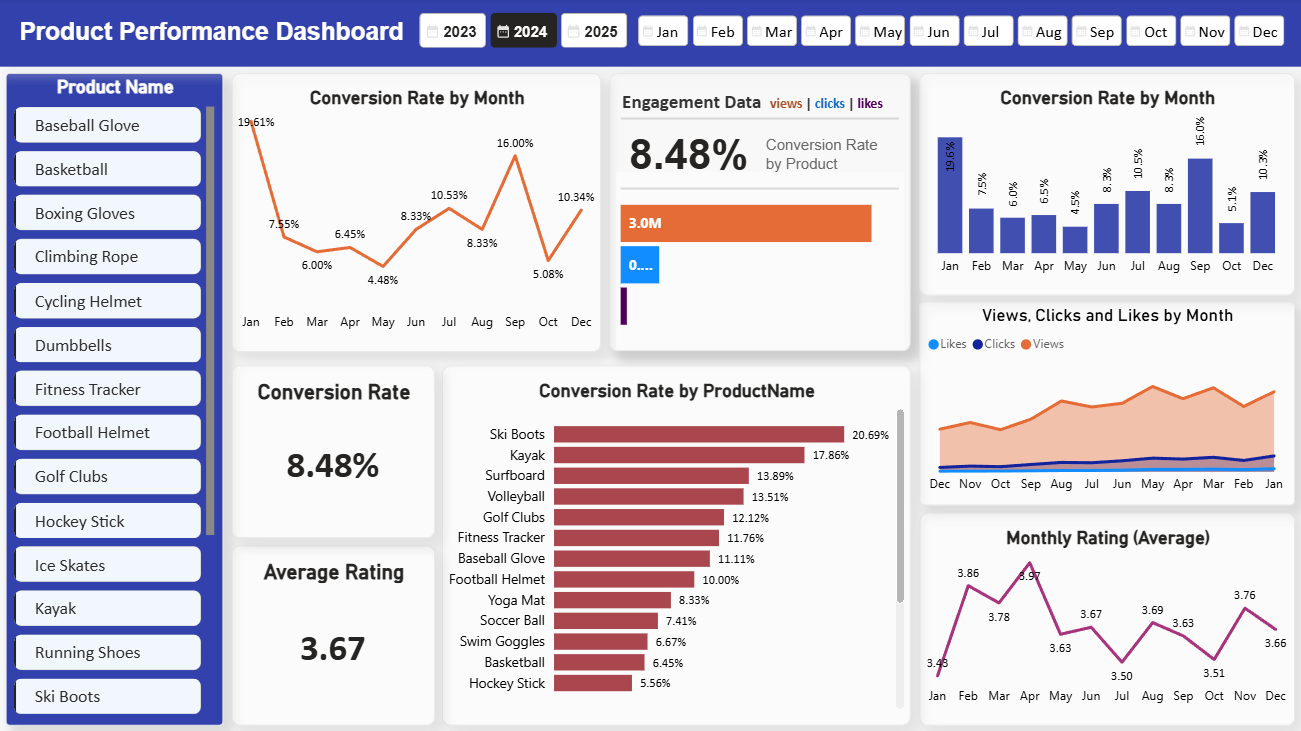

The page's visual inventory and layout, read from the dashboard file:
{"tool":"powerbi","page":{"name":"Overview","canvas":[1280,720],"ordinal":0},"visuals":[{"type":"textbox","box":[-0.2,0,1280.3,67.3],"z":0,"group":"g2"},{"type":"advancedSlicerVisual","title":"Product Name","fields":{"Values":["dim_products.ProductName"]},"box":[8.6,73.4,212.8,638.3],"z":0},{"type":"shape","box":[599.5,73.4,294.7,272],"z":0,"group":"g1"},{"type":"lineChart","title":"Conversion Rate by Month","fields":{"Category":["Calendar.MonthNameShort"],"Y":["calculations.Conversion Rate"]},"box":[229.7,73.4,361,272.7],"z":1000},{"type":"clusteredBarChart","fields":{"Y":["calculations.Clicks","calculations.Likes","calculations.Views"]},"box":[606.2,169.8,281.3,174.4],"z":1000,"group":"g1"},{"type":"actionButton","box":[0,0,100,40],"z":2000},{"type":"advancedSlicerVisual","fields":{"Values":["Calendar.Year"]},"box":[396.2,11.2,239.7,44],"z":2000,"group":"g2"},{"type":"card","fields":{"Values":["calculations.Conversion Rate"]},"box":[606.2,118.8,141.2,64.6],"z":2000,"group":"g1"},{"type":"card","title":"Conversion Rate","fields":{"Values":["calculations.Conversion Rate"]},"box":[229.4,359.5,198.1,169],"z":2000,"group":"g4"},{"type":"advancedSlicerVisual","fields":{"Values":["Calendar.MonthNameShort"]},"box":[626,13.7,651,35],"z":3000,"group":"g2"},{"type":"group","id":"g1","title":"Group 1","box":[599.5,73.4,313,271.5],"z":3000},{"type":"textbox","box":[747.4,129.5,122.1,53.7],"z":3000,"group":"g1"},{"type":"card","title":"Average Rating","fields":{"Values":["calculations.Rating (Average)"]},"box":[229.9,535.6,198.1,176.1],"z":3000,"group":"g3"},{"type":"columnChart","title":"Conversion Rate by Month","fields":{"Y":["calculations.Conversion Rate"],"Category":["Calendar.MonthNameShort"]},"box":[902.5,73.4,366.8,217.7],"z":4000},{"type":"shape","box":[610.7,163.7,272.3,45.1],"z":4000,"group":"g1"},{"type":"shape","box":[610.7,95.4,272.3,45.1],"z":5000,"group":"g1"},{"type":"areaChart","title":"Views, Clicks and Likes by Month","fields":{"Category":["Calendar.MonthNameShort"],"Y":["calculations.Likes","calculations.Clicks","calculations.Views"]},"box":[902.5,297.1,366.8,199.3],"z":5000},{"type":"textbox","box":[606.8,85.6,305.7,48.8],"z":6000,"group":"g1"},{"type":"lineChart","title":"Monthly Rating (Average)","fields":{"Category":["Calendar.MonthNameShort"],"Y":["calculations.Rating (Average)"]},"box":[902.5,503.8,366.8,207.9],"z":6000},{"type":"clusteredBarChart","fields":{"Category":["dim_products.ProductName"],"Y":["calculations.Conversion Rate"]},"box":[435.3,359.5,458.6,352.2],"z":7000},{"type":"group","id":"g2","title":"Group 2","box":[-0.2,0,1280.3,67.3],"z":8000},{"type":"group","id":"g3","title":"Group 3","box":[229.9,535.6,198.1,176.1],"z":9000},{"type":"group","id":"g4","title":"Group 4","box":[229.4,359.5,198.1,169],"z":10000}]}

Visuals, with their boxes in screenshot pixels (x1, y1, x2, y2), scaled from the page's 1280x720 canvas onto the 1301x731 screenshot:
textbox: pyautogui.locateOnScreen(0, 0, 1300, 68)
"Product Name" advancedSlicerVisual: pyautogui.locateOnScreen(9, 75, 225, 723)
shape: pyautogui.locateOnScreen(609, 75, 909, 351)
"Conversion Rate by Month" lineChart: pyautogui.locateOnScreen(233, 75, 600, 351)
clusteredBarChart - calculations.Clicks x calculations.Likes: pyautogui.locateOnScreen(616, 172, 902, 349)
actionButton: pyautogui.locateOnScreen(0, 0, 102, 41)
advancedSlicerVisual - Calendar.Year: pyautogui.locateOnScreen(403, 11, 646, 56)
card - calculations.Conversion Rate: pyautogui.locateOnScreen(616, 121, 760, 186)
"Conversion Rate" card: pyautogui.locateOnScreen(233, 365, 435, 537)
advancedSlicerVisual - Calendar.MonthNameShort: pyautogui.locateOnScreen(636, 14, 1298, 49)
"Group 1" group: pyautogui.locateOnScreen(609, 75, 927, 350)
textbox: pyautogui.locateOnScreen(760, 131, 884, 186)
"Average Rating" card: pyautogui.locateOnScreen(234, 544, 435, 723)
"Conversion Rate by Month" columnChart: pyautogui.locateOnScreen(917, 75, 1290, 296)
shape: pyautogui.locateOnScreen(621, 166, 897, 212)
shape: pyautogui.locateOnScreen(621, 97, 897, 143)
"Views, Clicks and Likes by Month" areaChart: pyautogui.locateOnScreen(917, 302, 1290, 504)
textbox: pyautogui.locateOnScreen(617, 87, 927, 136)
"Monthly Rating (Average)" lineChart: pyautogui.locateOnScreen(917, 511, 1290, 723)
clusteredBarChart - dim_products.ProductName x calculations.Conversion Rate: pyautogui.locateOnScreen(442, 365, 909, 723)
"Group 2" group: pyautogui.locateOnScreen(0, 0, 1300, 68)
"Group 3" group: pyautogui.locateOnScreen(234, 544, 435, 723)
"Group 4" group: pyautogui.locateOnScreen(233, 365, 435, 537)
